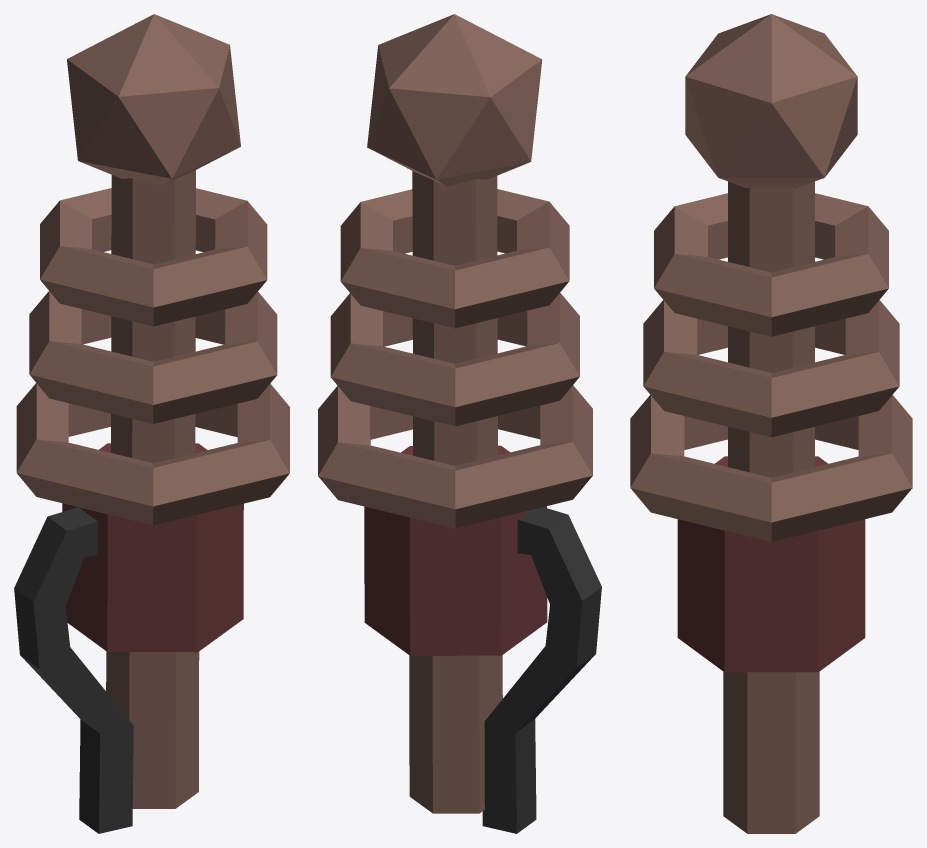
Rendered from DarkGreyMetalDecorationSmallTeslaCoil1.fbx.
3 renders of one model, left to right at view 1: azimuth 30°, elevation 25°; view 2: azimuth 150°, elevation 25°; view 3: azimuth 270°, elevation 25°, orthographic. The views are drawn at different scales.
Visible parts, largest first — view 1: DarkGreyMetalDecorationSmallTeslaCoil1; view 2: DarkGreyMetalDecorationSmallTeslaCoil1; view 3: DarkGreyMetalDecorationSmallTeslaCoil1.
Boxes of the visible parts, x1,y1,x2,y2 form: DarkGreyMetalDecorationSmallTeslaCoil1: (14, 14, 289, 833); DarkGreyMetalDecorationSmallTeslaCoil1: (318, 14, 601, 833); DarkGreyMetalDecorationSmallTeslaCoil1: (630, 14, 912, 833).
Size of the model in its own units: 251 by 696 by 217.
